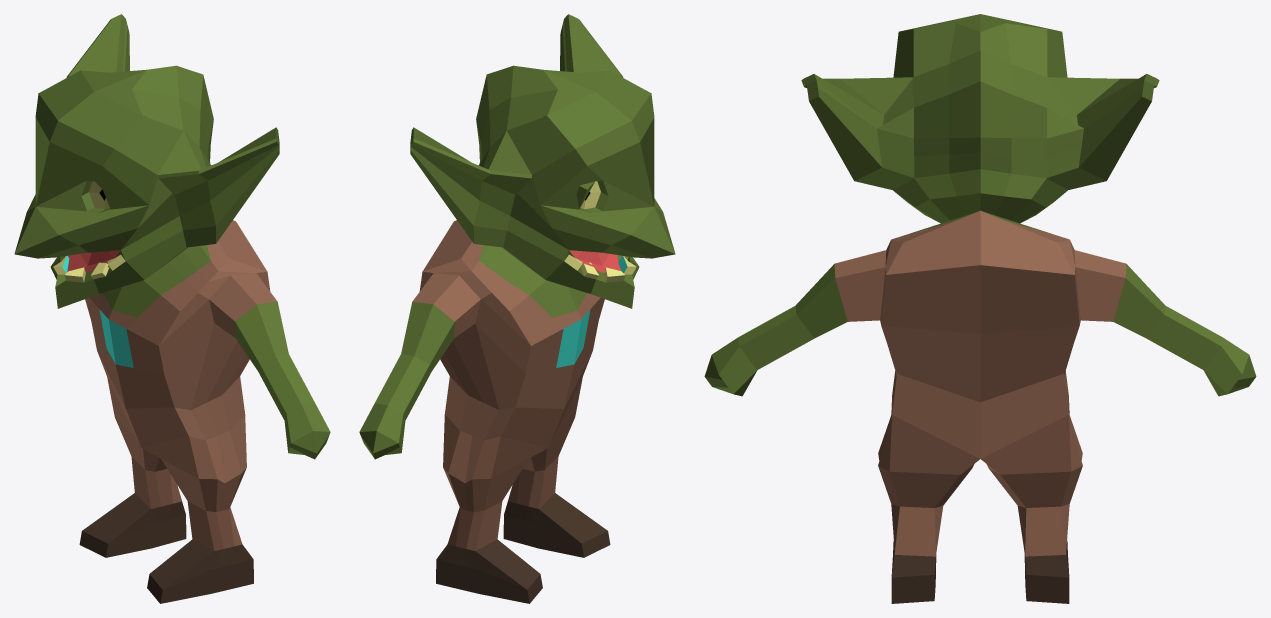
The model's file is goblinoldNEVERFORGET.fbx.
The picture shows the model from 3 angles, left to right: view 1: azimuth 30°, elevation 25°; view 2: azimuth 150°, elevation 25°; view 3: azimuth 270°, elevation 25°; orthographic projection. The views are drawn at different scales.
Visible parts, largest first — view 1: Cube; view 2: Cube; view 3: Cube.
Part boxes in pixels (x1,y1,x2,y2): Cube: [14, 14, 330, 603]; Cube: [359, 14, 675, 603]; Cube: [704, 14, 1256, 603].
Bounding box in the file's own units: 94.98 × 205 × 190.
Materials: 2 (1 with a texture image).
